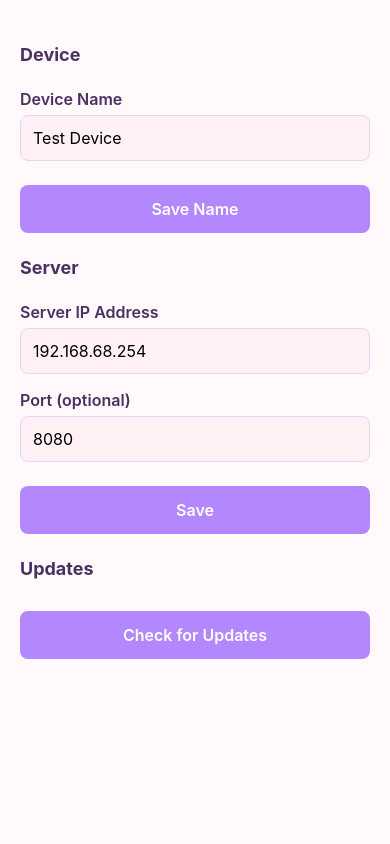
Scenario: shows success message after saving
Click the button "Save" at [195, 510], box 20,486 -> 370,534
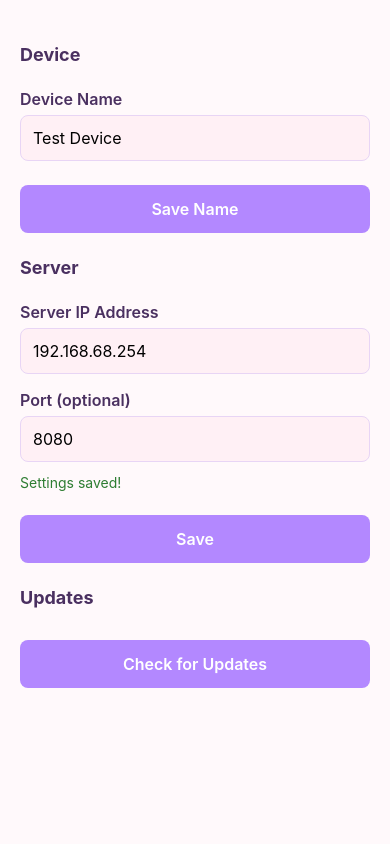
Now the text "Settings saved!" is shown, box 20,474 -> 121,491
